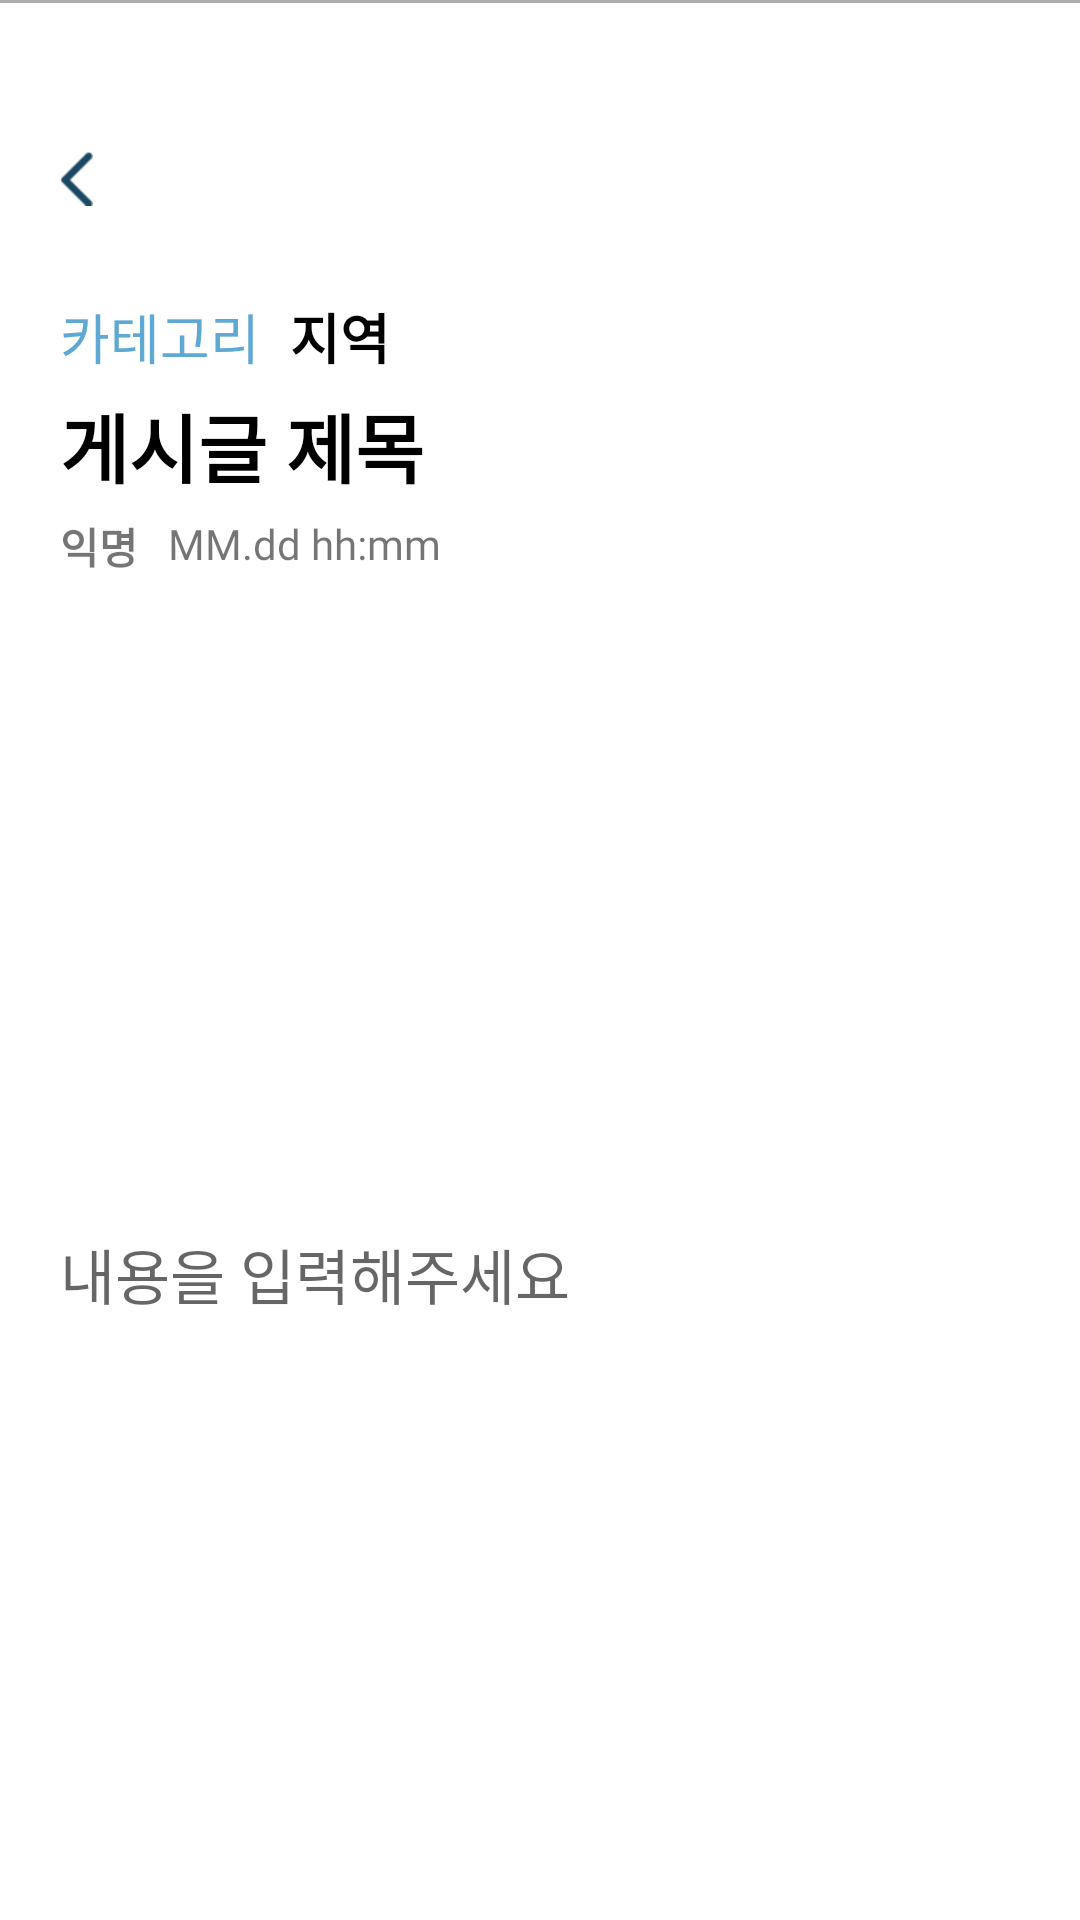

Screen size 1080x1920. Icon name, then its box in pixels as {"x1": x1, "y1": y1, "x2": x2, "y2": y2}:
back: {"x1": 61, "y1": 152, "x2": 93, "y2": 206}
